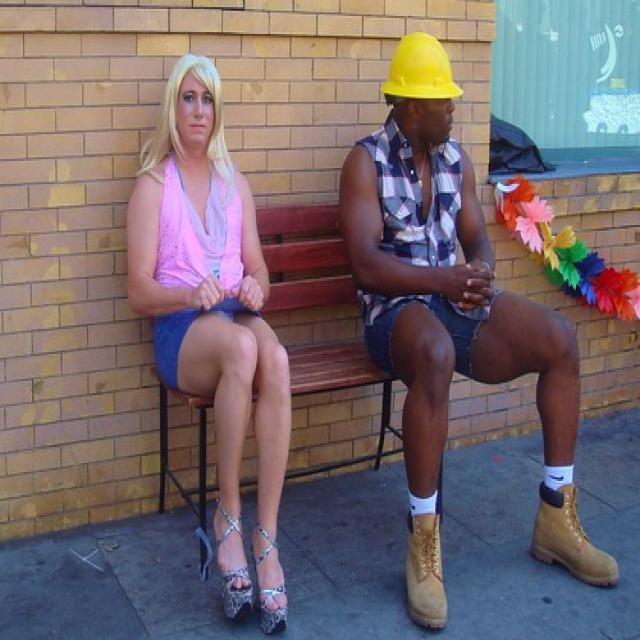Safety-Helmet: (379, 29, 466, 107)
